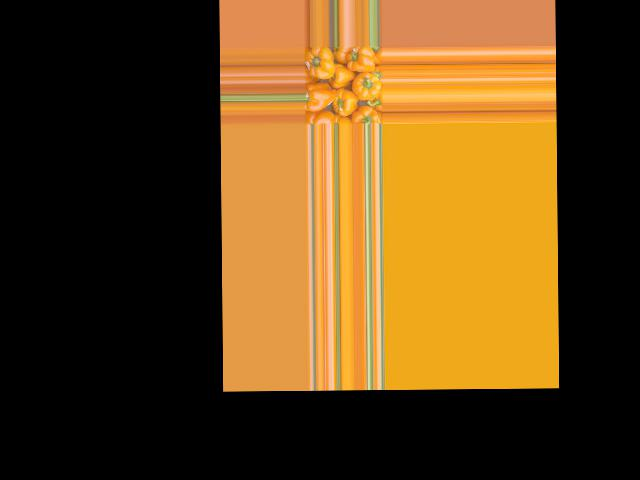bell_pepper: (304, 111, 335, 123)
